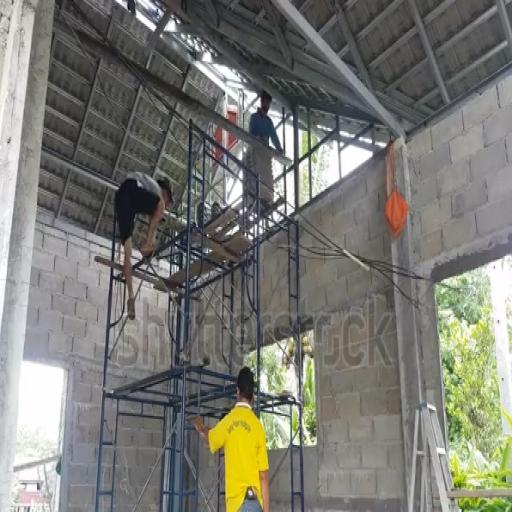Helmet-Detection: (160, 181, 178, 205), (239, 373, 253, 400), (261, 98, 271, 110)
